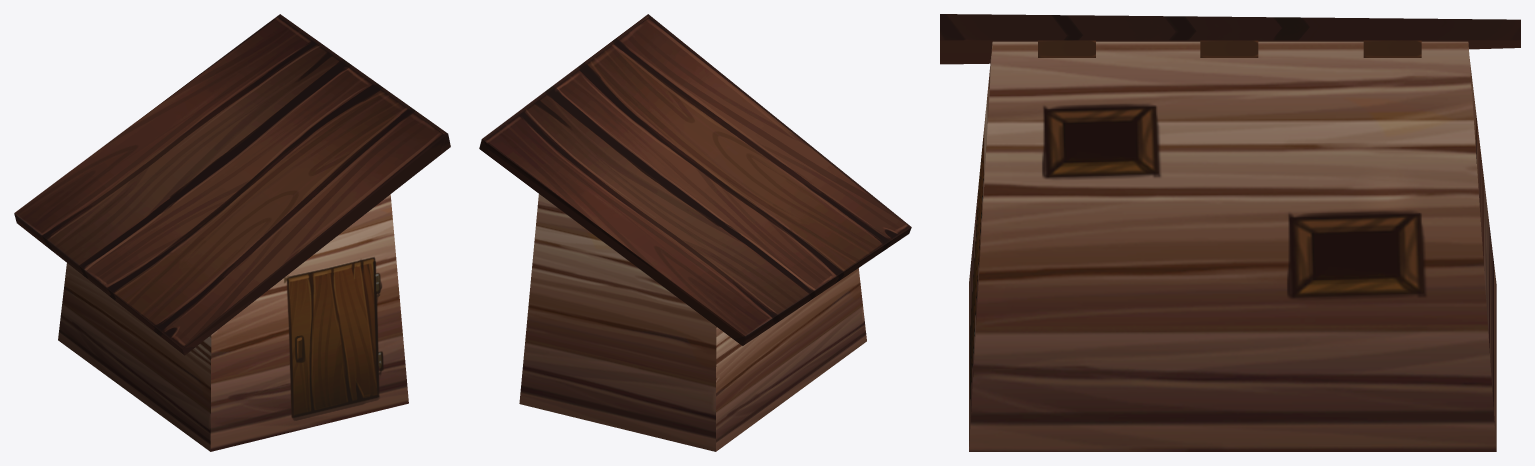
File: Sarai.fbx
3 renders of one model, left to right at view 1: azimuth 30°, elevation 25°; view 2: azimuth 150°, elevation 25°; view 3: azimuth 270°, elevation 25°, orthographic. The views are drawn at different scales.
Visible parts, largest first — view 1: Sarai; view 2: Sarai; view 3: Sarai.
Part boxes in pixels (x1,y1,x2,y2): Sarai: [14, 14, 450, 451]; Sarai: [479, 14, 911, 451]; Sarai: [940, 14, 1520, 451].
Size of the model in its own units: 12.61 by 12.03 by 13.65.
